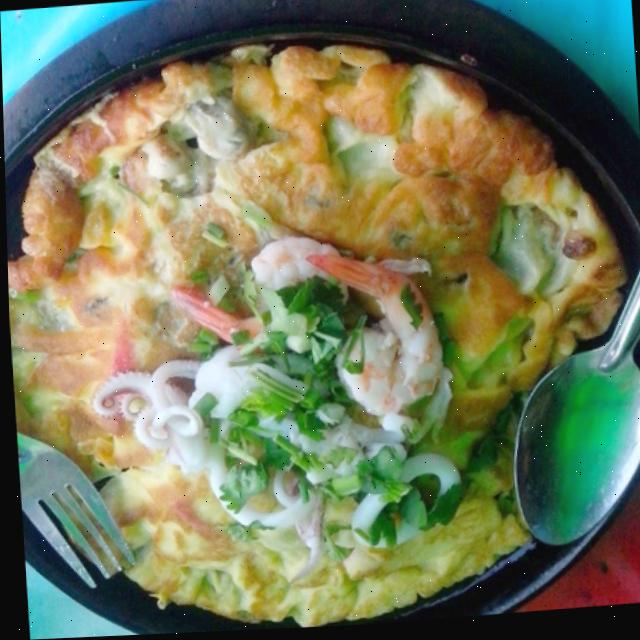炸货点心: (1, 15, 640, 640)
蛋糕甜品: (1, 15, 640, 640)
